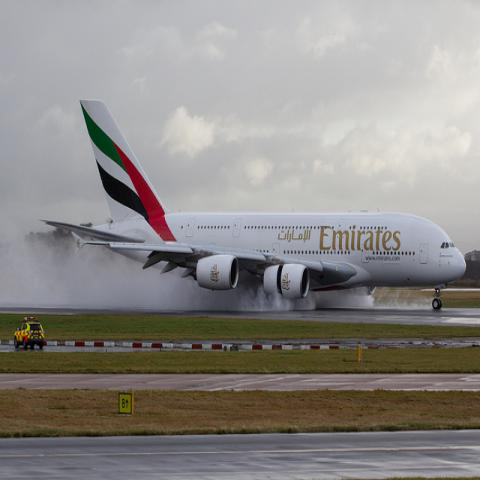car: (14, 321, 45, 349)
